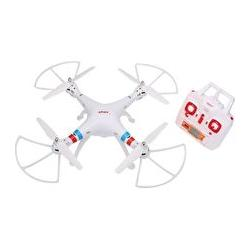drone: (13, 61, 189, 191)
